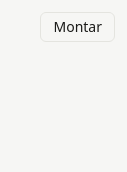
it: montar / abrir pasta › desmontado com FAT32: Montar e, depois, Abrir pasta
The width and height of the screenshot is (127, 172).
Later steps or results of the test are not shown.
Click the button "Montar" at (78, 27), box [40, 12, 115, 42]
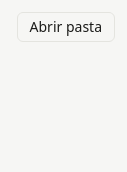
Now the button "Abrir pasta" is shown, box [16, 12, 115, 42]
